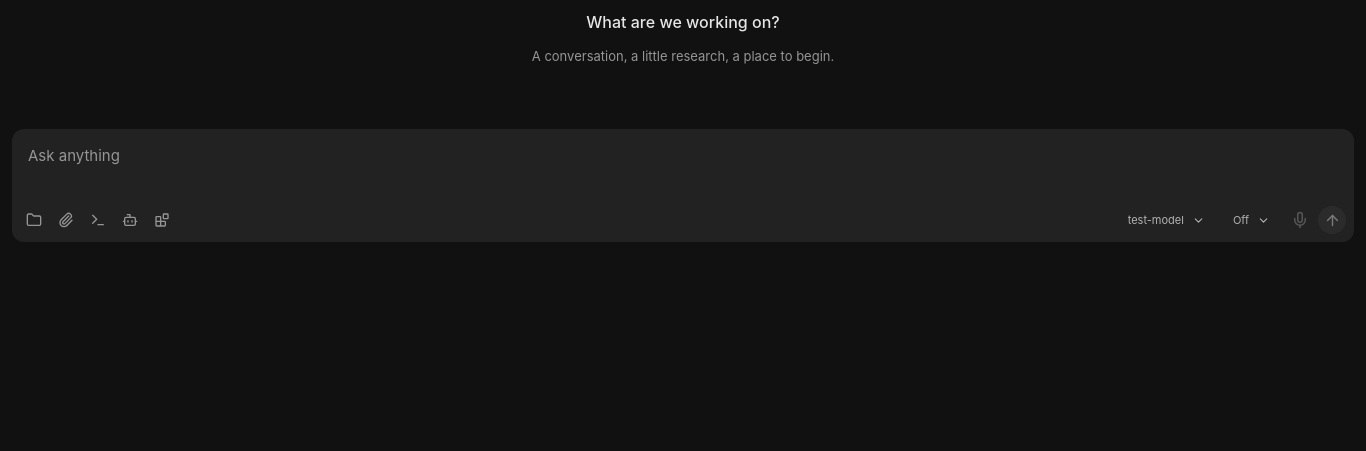
it: real conversation controls › offers the reasoning effort beside the model: a Thinking switch, and the levels
Later steps or results of the test are not shown.
Step 1. Click the button "Off" → (1251, 220), box [1221,206,1282,234]
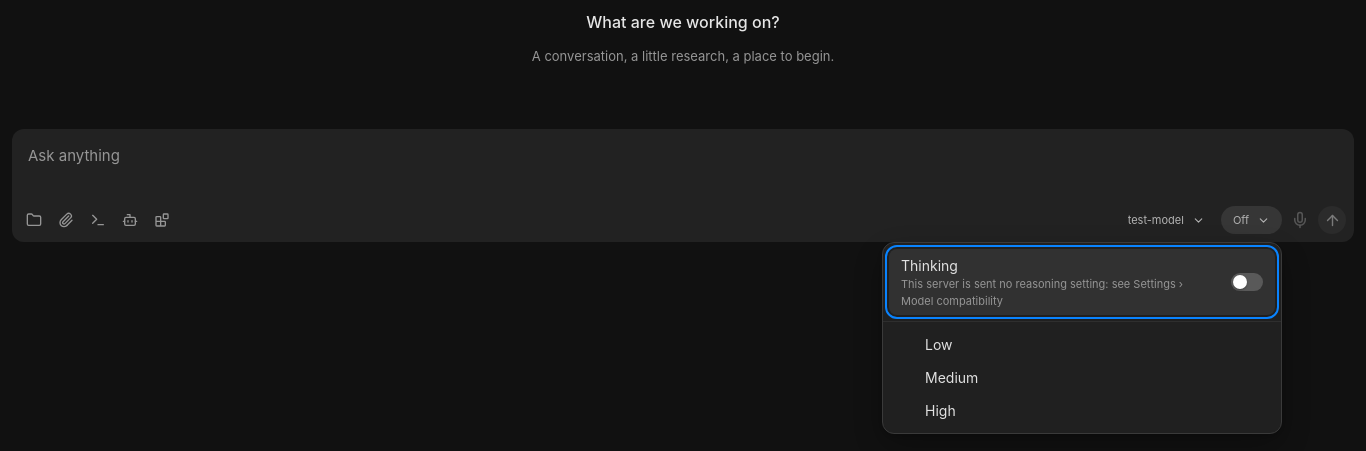
Expected: the menu item that starts with "Thinking" shows "sent no reasoning setting", [889,249,1275,315]
Expected: the menu item "High" is shown, [889,394,1275,427]
